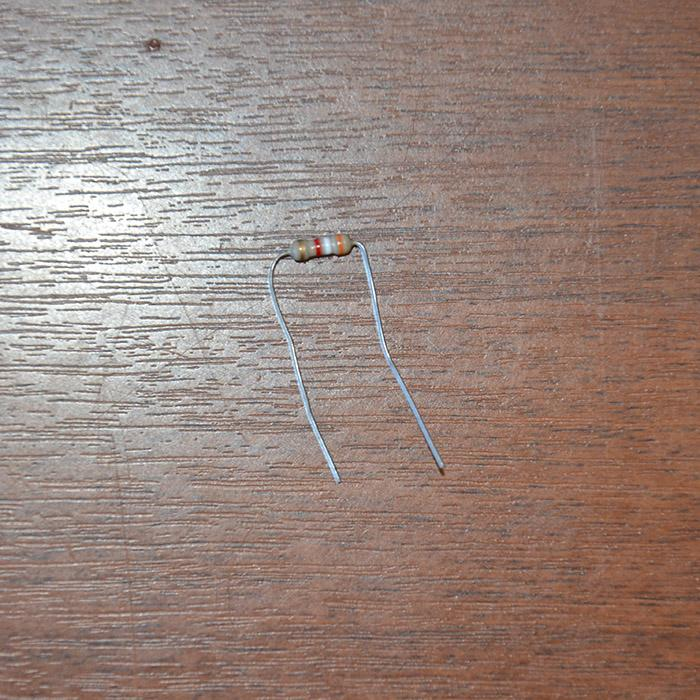resistor: (288, 232, 354, 262)
